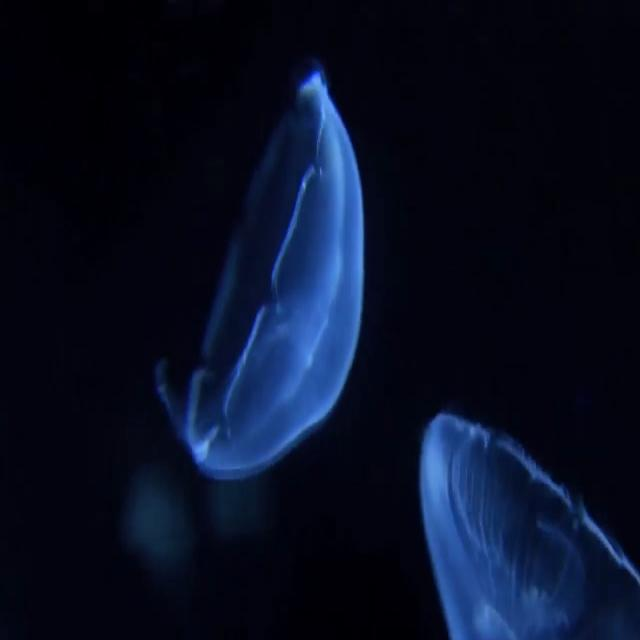Moon-jellyfish: (158, 70, 364, 479)
